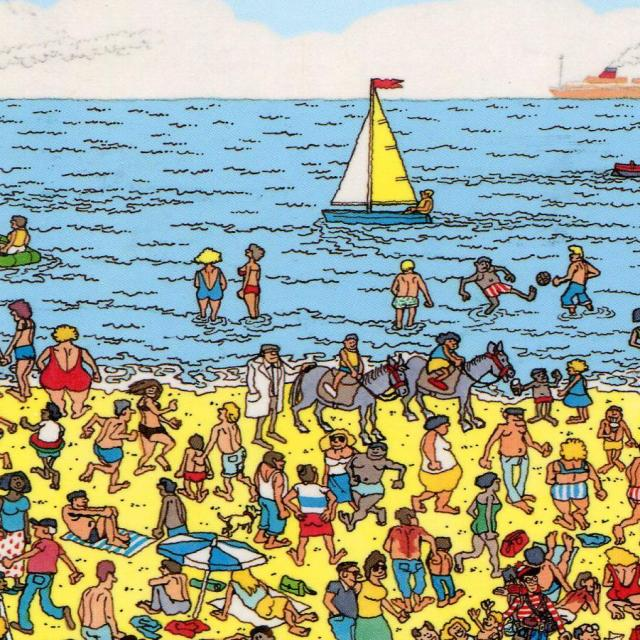waldo: (516, 561, 540, 592)
